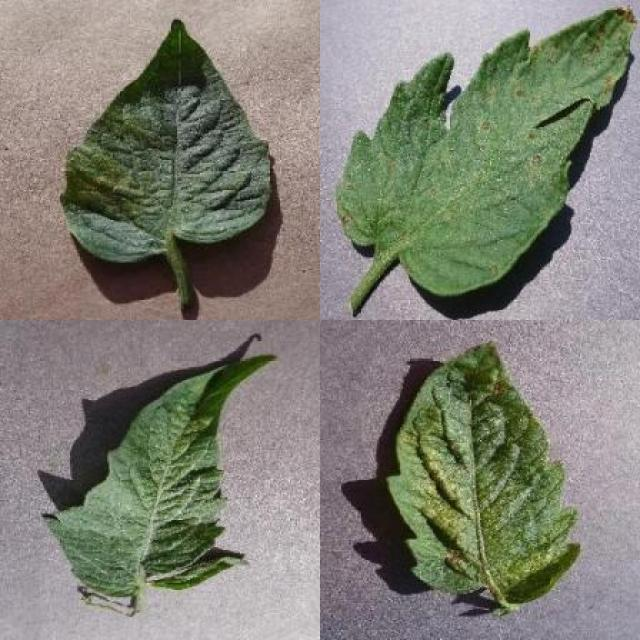Septoria: (335, 6, 638, 297)
Spider Mites: (42, 352, 278, 599), (58, 17, 273, 264), (387, 341, 582, 603)
